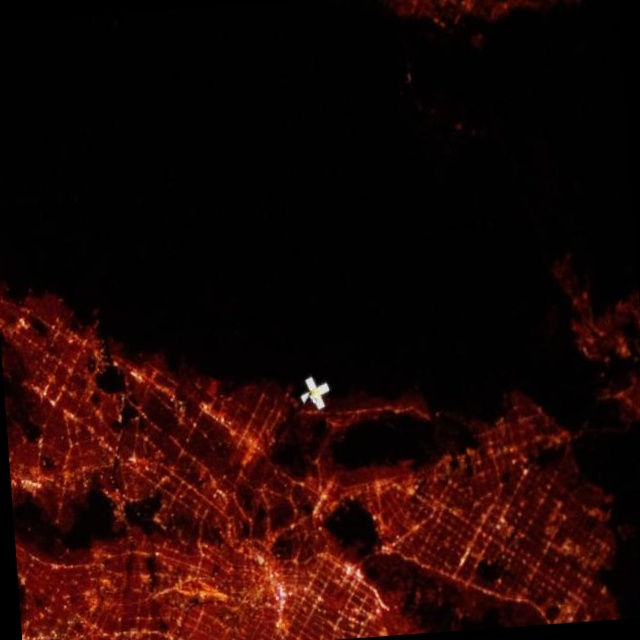satellite: (280, 364, 338, 423)
